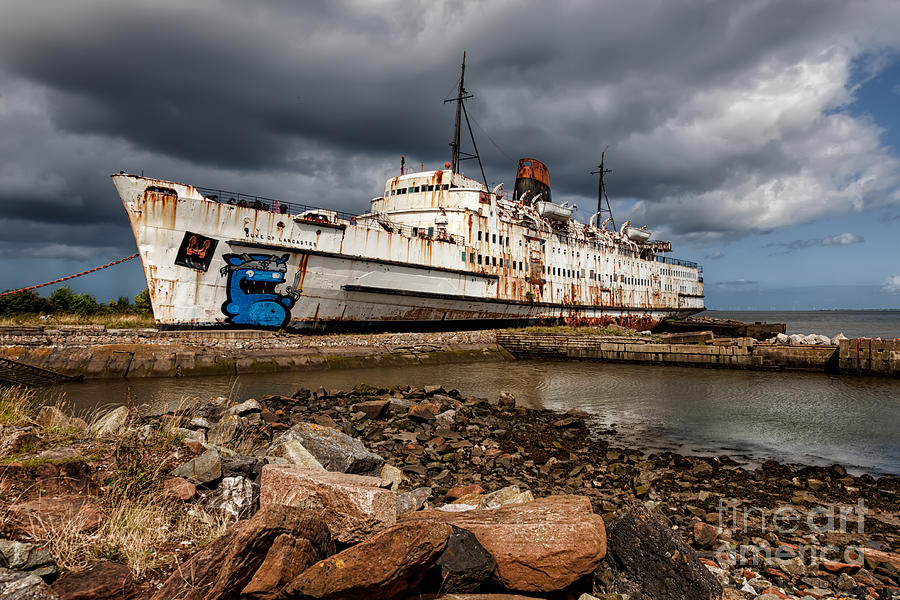rust: (461, 215, 548, 299), (565, 297, 657, 332), (147, 266, 181, 315), (145, 192, 181, 223), (424, 172, 449, 199)
